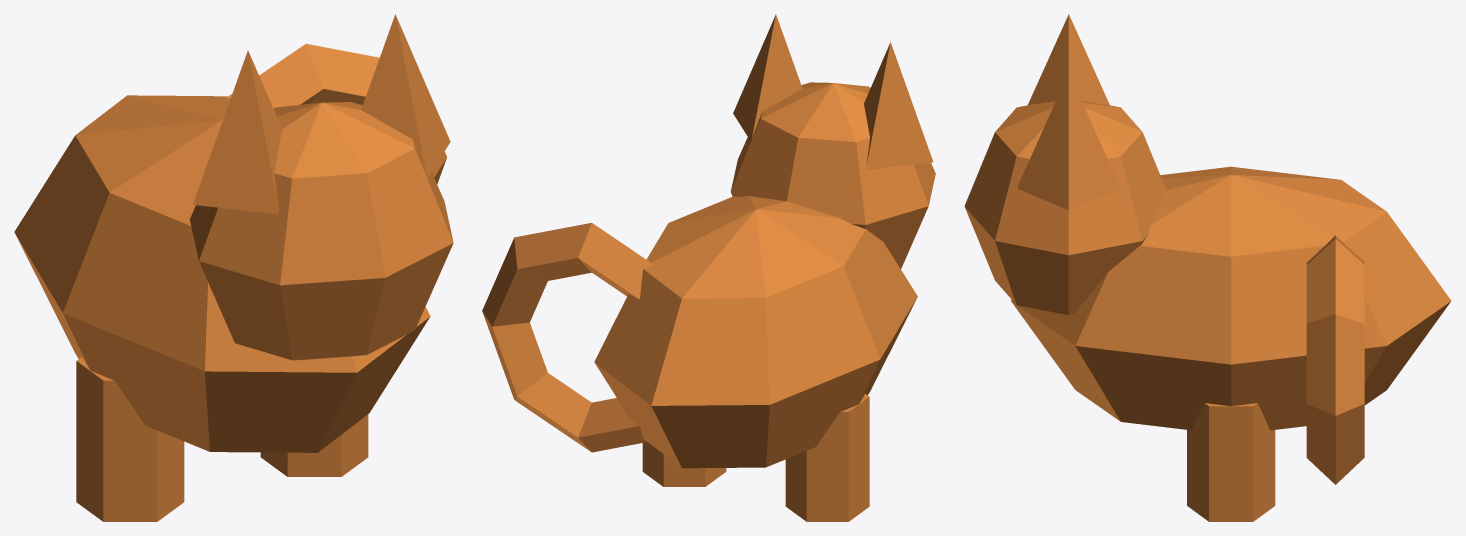
File: cat.glb
3 views of the same model, side by side, from view 1: azimuth 30°, elevation 25°; view 2: azimuth 150°, elevation 25°; view 3: azimuth 270°, elevation 25° (orthographic). The views are drawn at different scales.
Visible parts, largest first — view 1: cat; view 2: cat; view 3: cat.
Boxes of the visible parts, x1,y1,x2,y2 form: cat: [14, 14, 453, 521]; cat: [482, 14, 935, 521]; cat: [964, 14, 1451, 521].
Bounding box in the file's own units: 0.3154 × 0.35 × 0.363.
